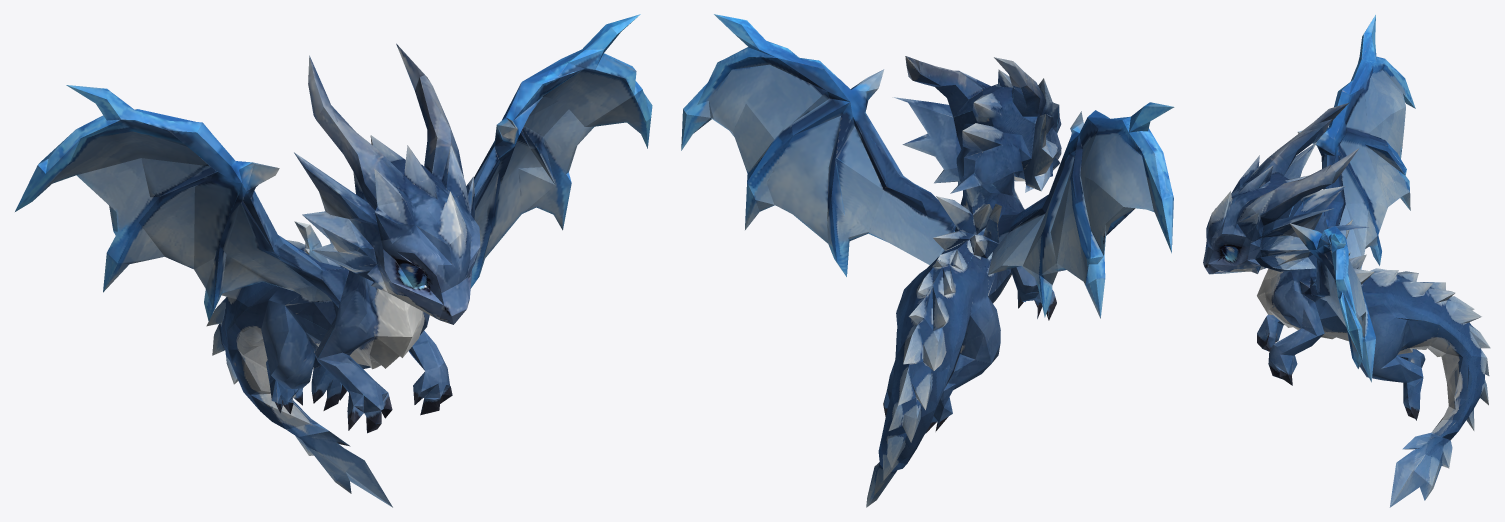
The model's file is fam-drake.glb.
3 views of the same model, side by side, from view 1: azimuth 30°, elevation 25°; view 2: azimuth 150°, elevation 25°; view 3: azimuth 270°, elevation 25° (orthographic). The views are drawn at different scales.
Parts seen in each view (by area): view 1: output_unwrapped; view 2: output_unwrapped; view 3: output_unwrapped.
Boxes of the visible parts, x1,y1,x2,y2 form: output_unwrapped: (15,14,652,507); output_unwrapped: (681,14,1174,507); output_unwrapped: (1203,14,1490,507).
Bounding box in the file's own units: 1.9 × 1.55 × 1.08.
Materials: 1 (1 with a texture image).
